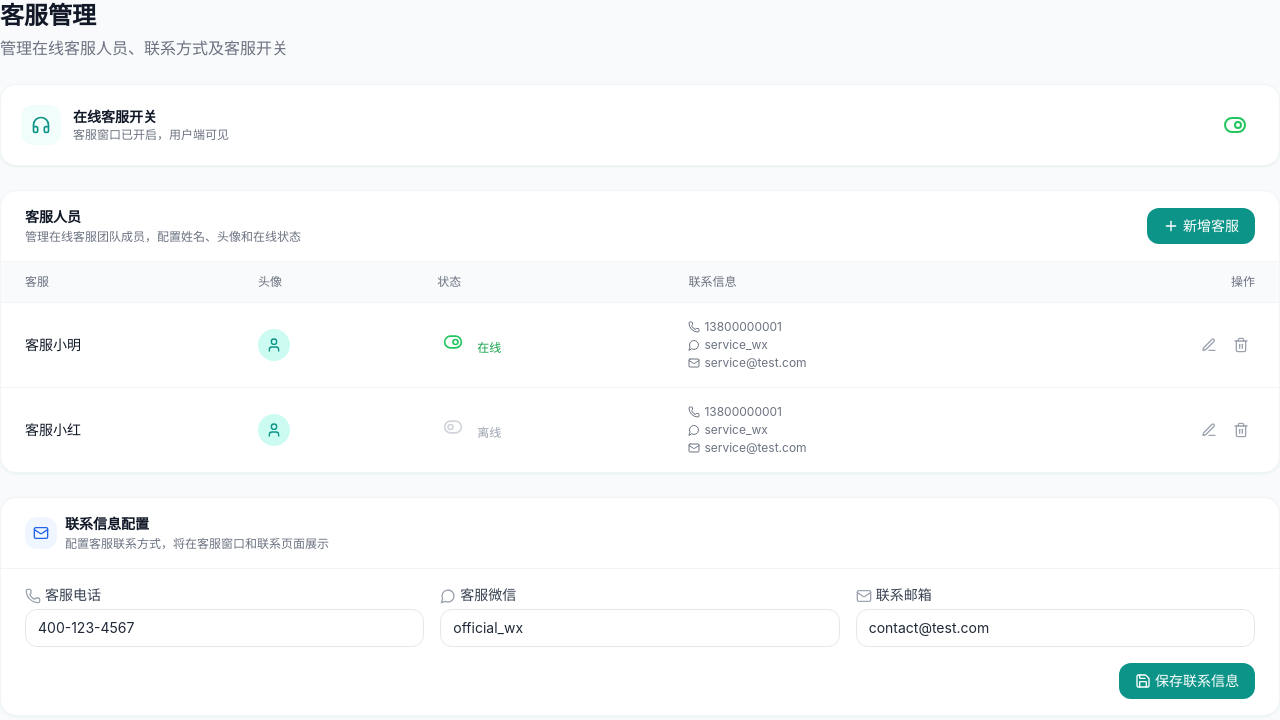
Test: AdminCustomerService › 客服人员 CRUD › 点击删除按钮打开确认弹窗
This screenshot has width=1280, height=720.
Expected: the text "客服小明" is shown, x1=25 y1=336 x2=81 y2=353
Click the button titled "删除" in the row of "客服小明": [1241, 345] box x1=1227 y1=331 x2=1255 y2=359
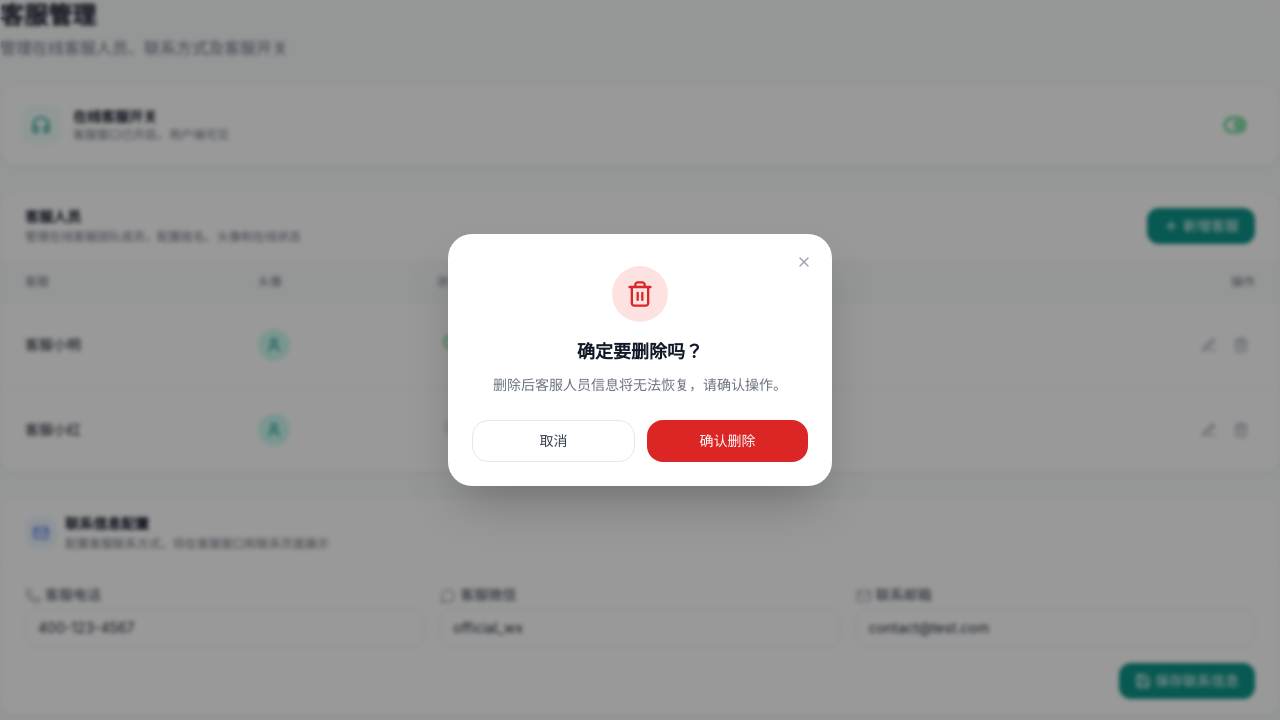
Now the button "确认删除" is shown, box x1=647 y1=420 x2=808 y2=462
